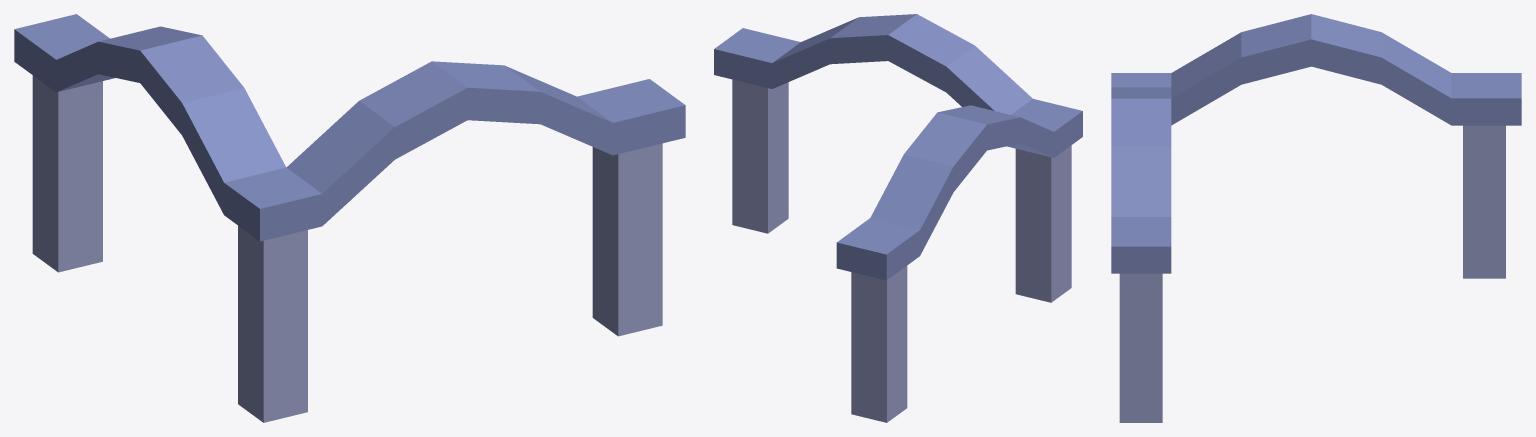
Rendered from bridge_arch_1a_3.fbx.
3 renders of one model, left to right at view 1: azimuth 30°, elevation 25°; view 2: azimuth 150°, elevation 25°; view 3: azimuth 270°, elevation 25°, orthographic. The views are drawn at different scales.
Parts seen in each view (by area): view 1: bridge_arch_1a_3; view 2: bridge_arch_1a_3; view 3: bridge_arch_1a_3.
Boxes of the visible parts, box(x1,y1,x2,y2) form: bridge_arch_1a_3: box(14, 14, 685, 422); bridge_arch_1a_3: box(714, 14, 1082, 422); bridge_arch_1a_3: box(1111, 14, 1521, 422).
Bounding box in the file's own units: 9.57 × 6.24 × 9.57.
